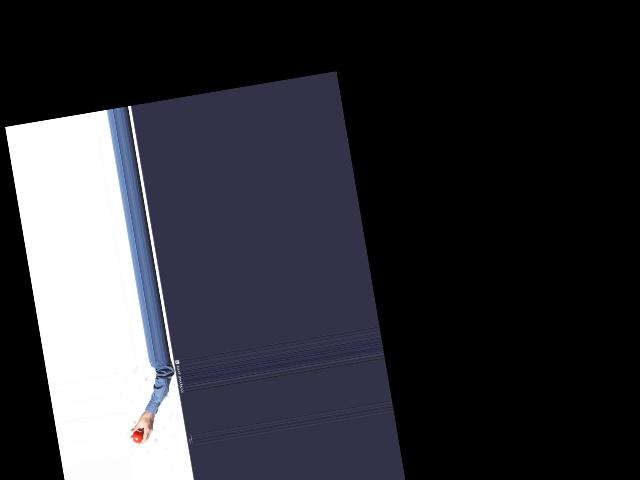tomato: (132, 430, 144, 444)
